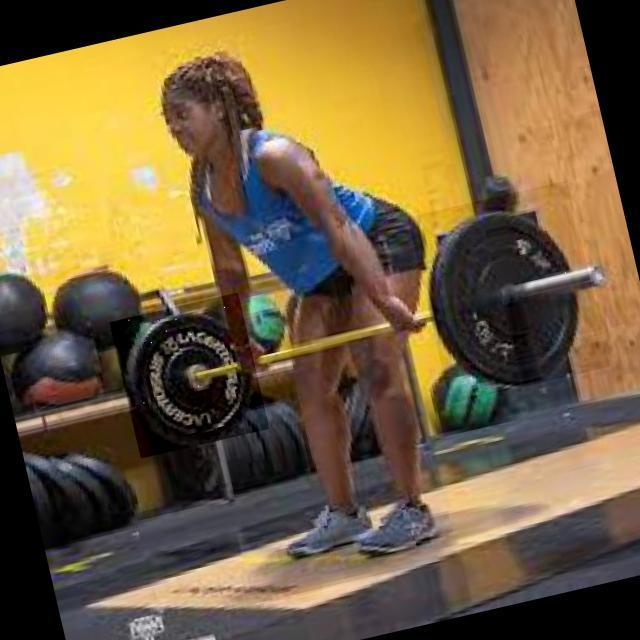barbell: (408, 181, 611, 404), (110, 294, 270, 460)
